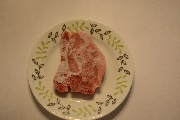beef: (54, 31, 106, 97)
